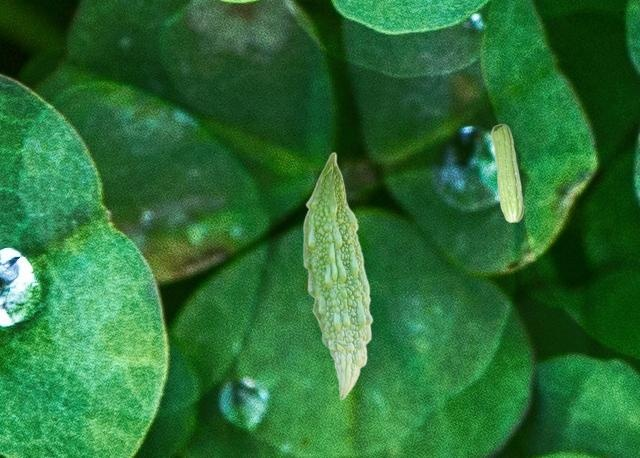ampalaya: (302, 151, 373, 400), (490, 122, 524, 224)
